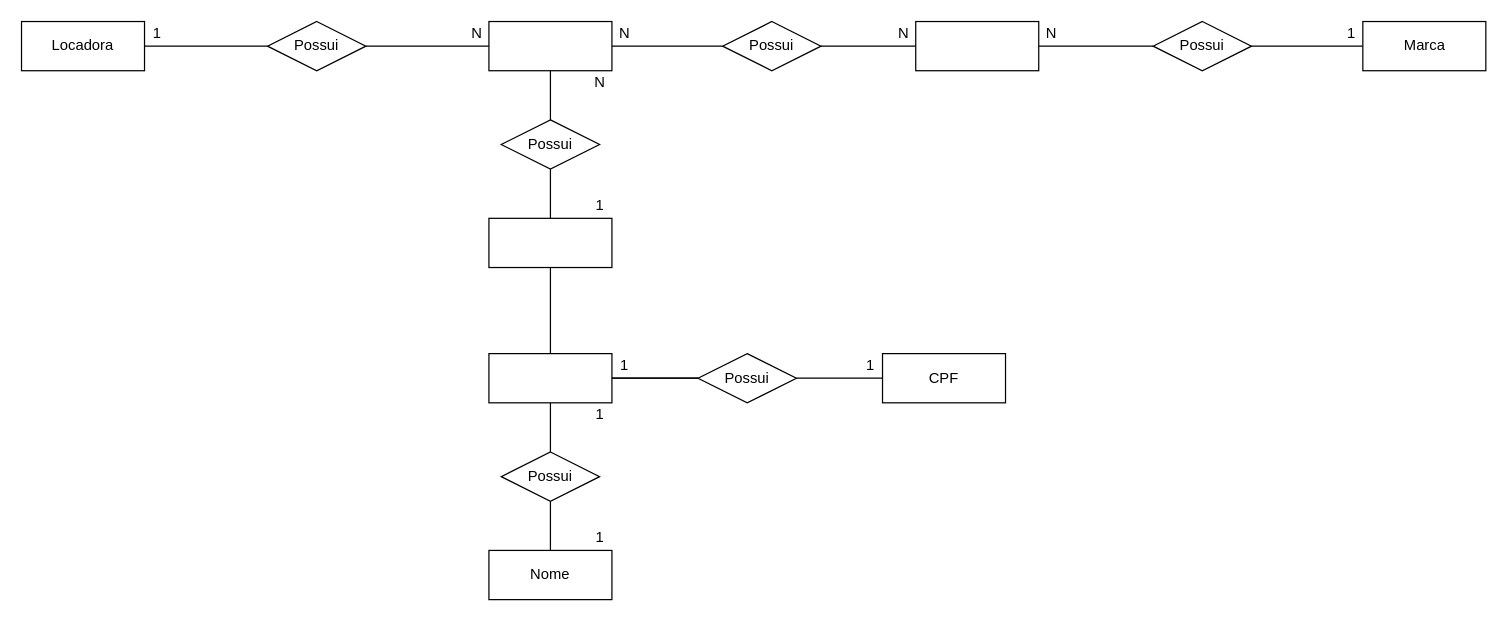
The diagram is 1508 pixels wide and 621 high, and some of its shapes have lost their labels. The box of each missing label's shape, as (x1, y1, x2, y2) in pixels:
Aluguel: (488, 217, 612, 268)
Cliente: (488, 352, 612, 403)
Modelo: (915, 20, 1039, 71)
Veículo: (488, 20, 612, 71)
